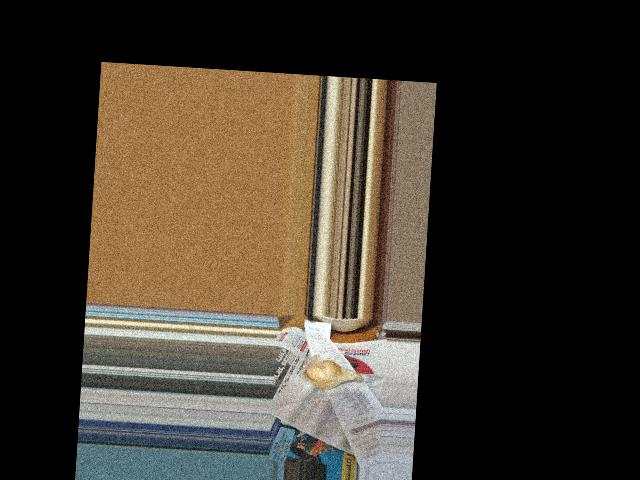onion: (305, 361, 357, 392)
